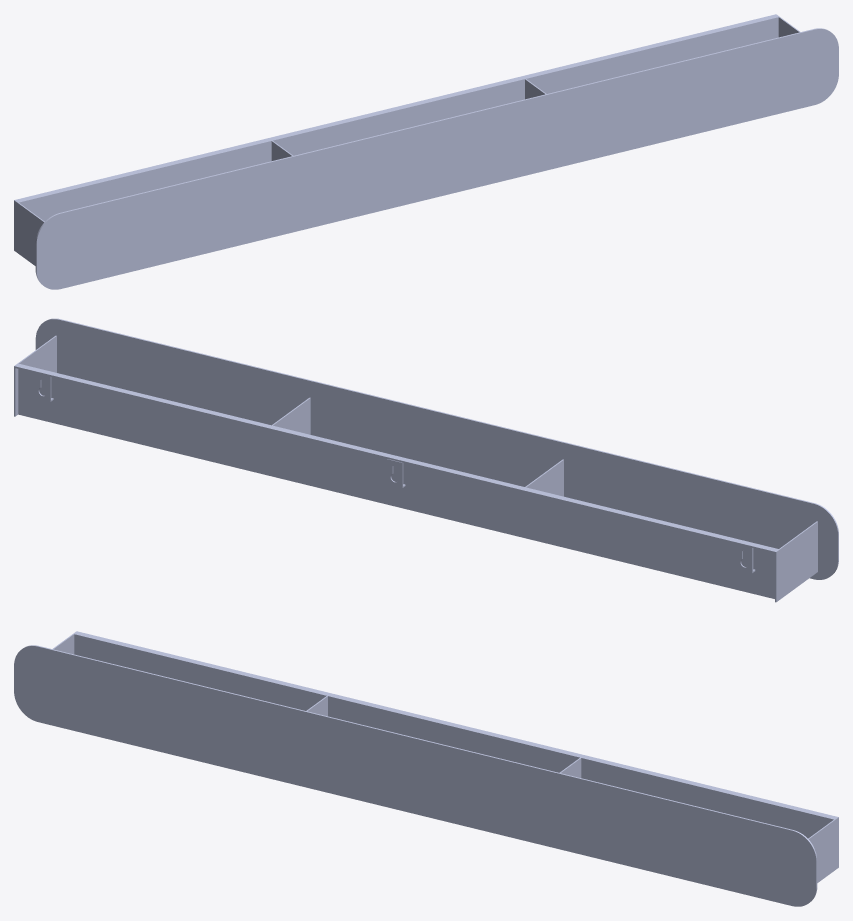
Rendered from radius-mono.1b1157009c.glb.
3 renders of one model, top to bottom at view 1: azimuth 30°, elevation 25°; view 2: azimuth 150°, elevation 25°; view 3: azimuth 330°, elevation 25°, orthographic.
Parts seen in each view (by area): view 1: NAUO1; view 2: NAUO1; view 3: NAUO1.
Part boxes in pixels (bbox=[...]): NAUO1: bbox=[14, 14, 838, 289]; NAUO1: bbox=[14, 318, 838, 602]; NAUO1: bbox=[14, 631, 838, 906].
Bounding box in the file's own units: 1 × 0.09 × 0.0927.
